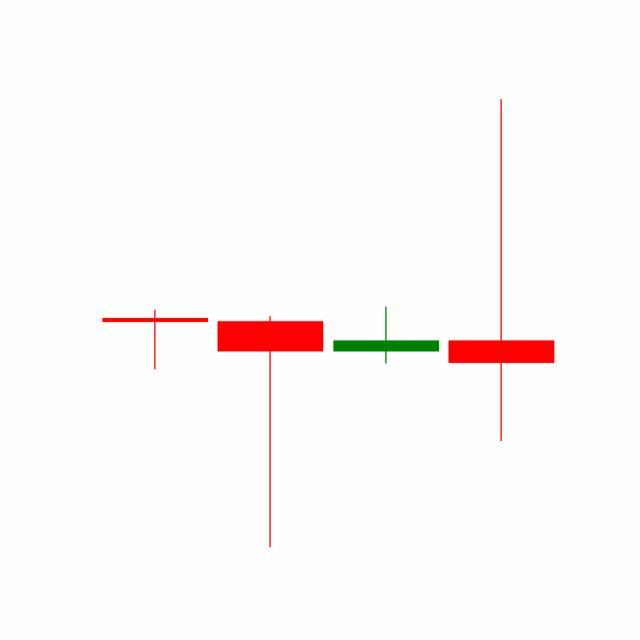Gravestone Doji: (329, 306, 445, 365)
